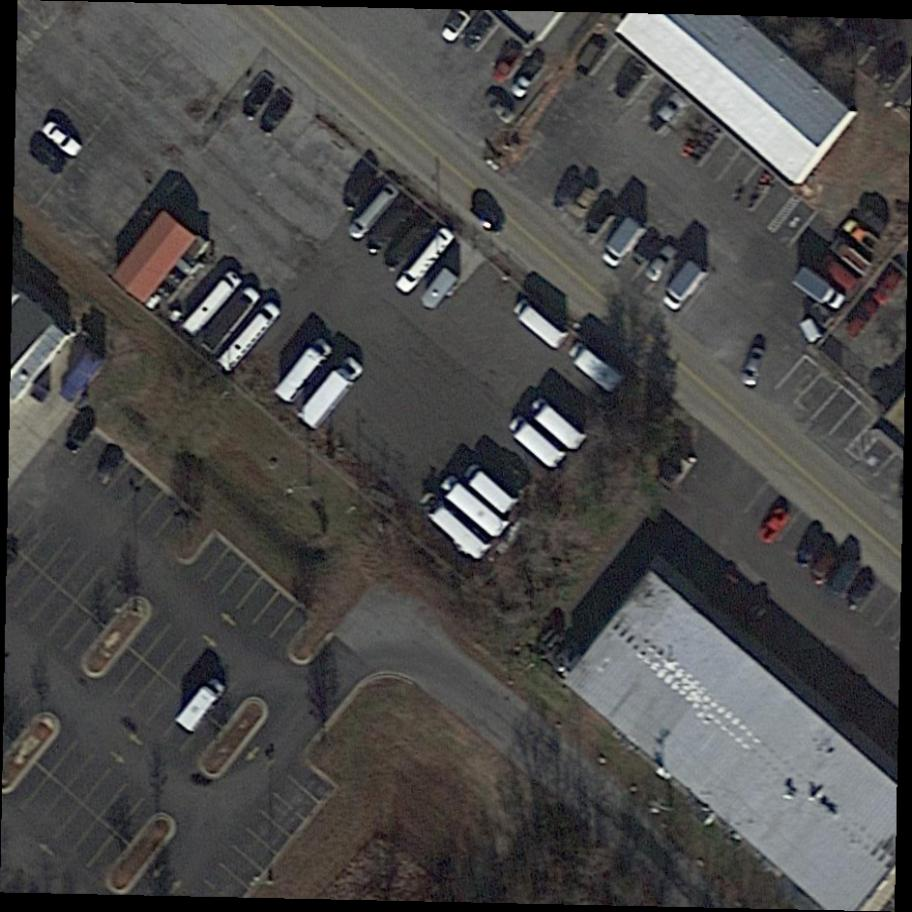large-vehicle: (295, 354, 366, 434), (419, 491, 494, 561), (391, 224, 460, 299), (215, 301, 284, 373), (436, 476, 510, 539), (199, 286, 263, 356), (181, 270, 242, 338), (275, 338, 336, 405), (504, 414, 566, 472), (457, 461, 521, 517), (528, 397, 590, 453), (512, 300, 571, 351), (567, 344, 625, 394), (598, 215, 647, 271), (662, 260, 708, 314), (793, 268, 846, 310)
small-vehicle: (344, 181, 403, 246), (173, 672, 231, 735), (361, 202, 413, 259), (381, 218, 431, 274), (39, 115, 87, 162), (506, 54, 548, 105), (753, 500, 795, 551), (827, 234, 876, 277), (815, 253, 861, 297), (337, 168, 379, 215), (253, 89, 295, 135), (26, 134, 70, 177), (838, 569, 879, 615), (838, 215, 885, 255), (237, 76, 278, 121), (789, 527, 828, 572), (642, 240, 681, 285), (868, 263, 906, 309), (609, 59, 649, 101), (580, 193, 619, 236), (823, 553, 859, 599), (806, 544, 842, 589), (460, 12, 499, 53), (647, 92, 685, 134), (842, 298, 880, 340), (566, 180, 605, 220), (467, 198, 506, 238), (482, 89, 521, 127), (438, 7, 475, 46), (491, 42, 526, 83), (629, 227, 663, 266), (740, 346, 769, 390)
